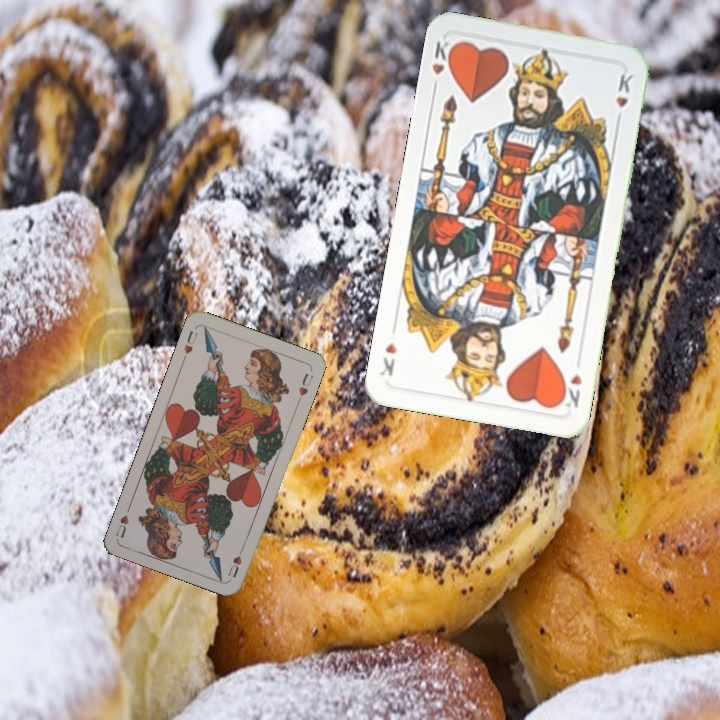HK: (428, 35, 458, 94), (556, 370, 585, 412)
HU: (224, 542, 247, 580), (180, 327, 200, 357)
